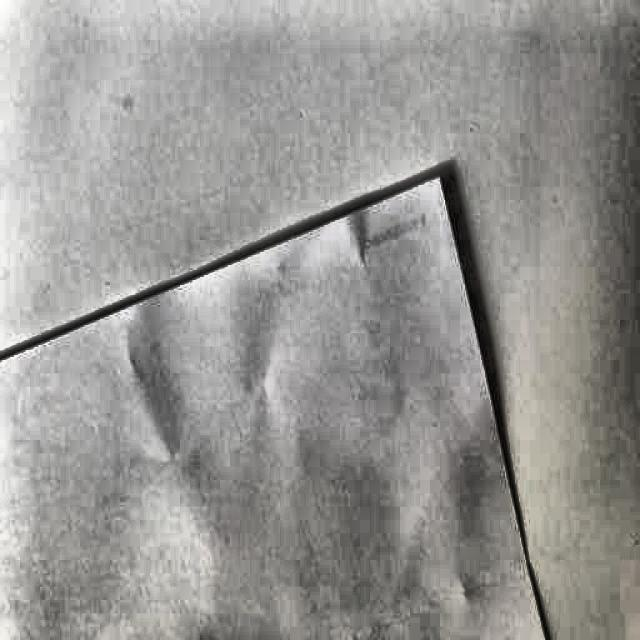paper: (5, 155, 545, 640)
